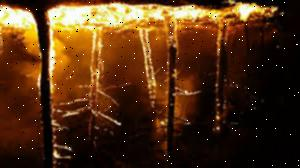fire: (0, 0, 269, 38)
